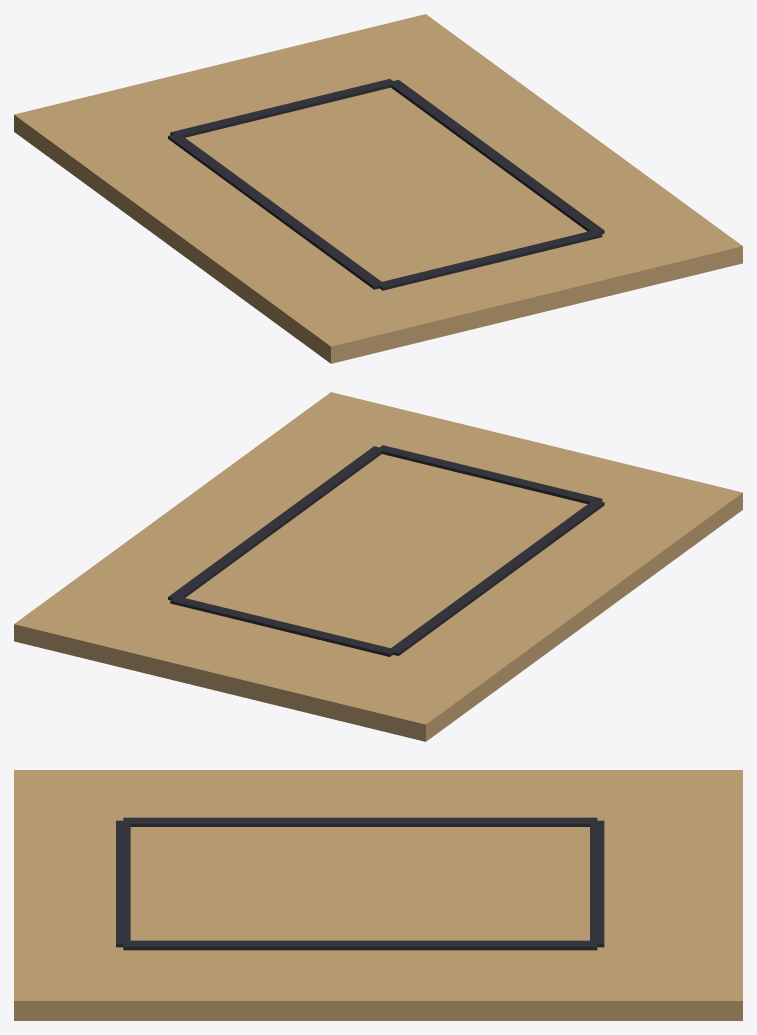
Rendered from costume_pattern.glb.
3 renders of one model, top to bottom at view 1: azimuth 30°, elevation 25°; view 2: azimuth 150°, elevation 25°; view 3: azimuth 270°, elevation 25°, orthographic. The views are drawn at different scales.
Parts seen in each view (by area): view 1: paper_pattern_paper, outline_pattern_ink; view 2: paper_pattern_paper, outline_pattern_ink; view 3: paper_pattern_paper, outline_pattern_ink.
Boxes of the visible parts, box(x1,y1,x2,y2) form: paper_pattern_paper: box(14, 14, 742, 363); outline_pattern_ink: box(168, 79, 604, 290); paper_pattern_paper: box(14, 392, 742, 741); outline_pattern_ink: box(168, 445, 604, 656); paper_pattern_paper: box(14, 770, 742, 1020); outline_pattern_ink: box(116, 817, 604, 950).
Size of the model in its own units: 0.3 by 0.014 by 0.4.
